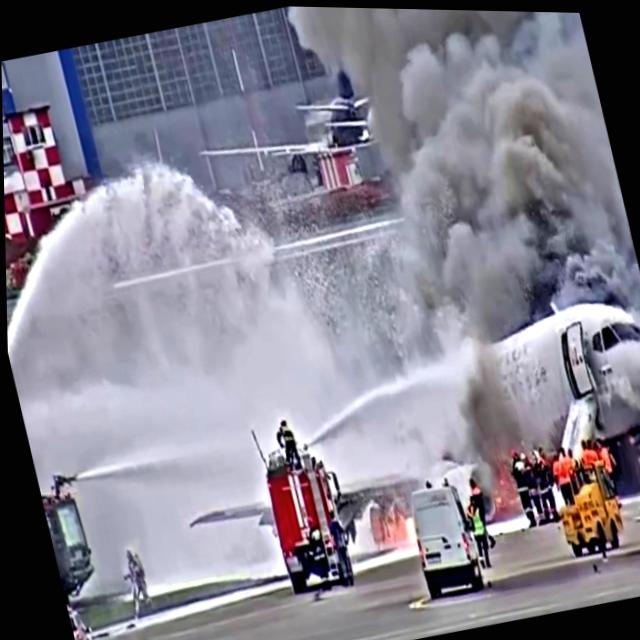smoke: (318, 6, 617, 222)
